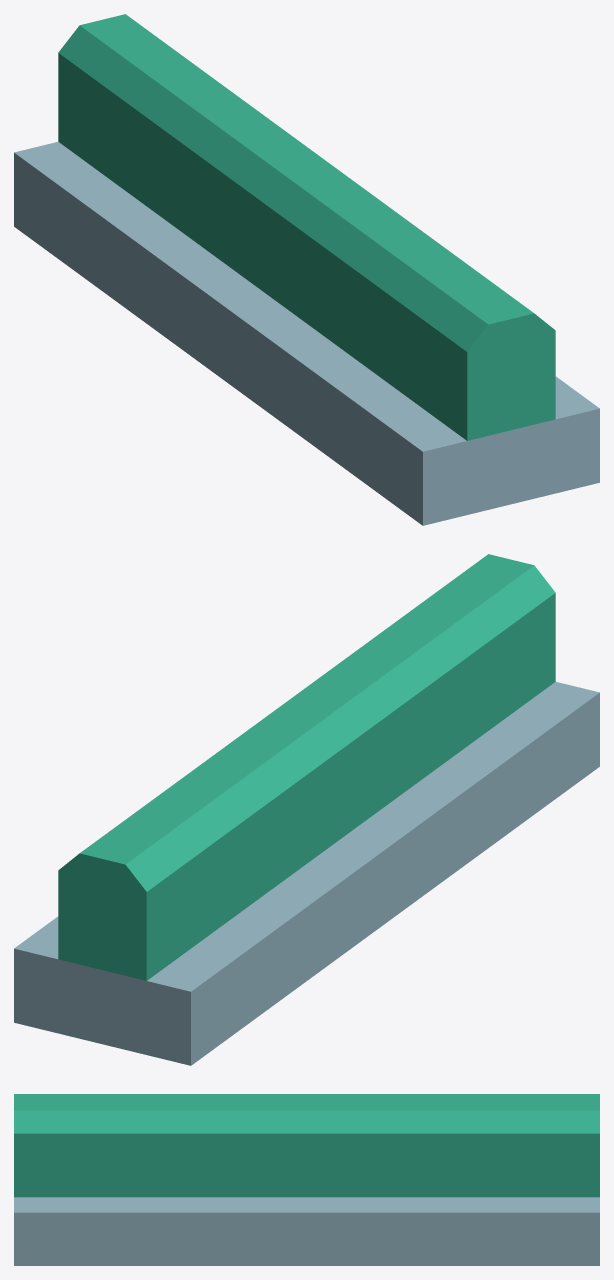
File: d_kenney_haie.glb
The picture shows the model from 3 angles, top to bottom: view 1: azimuth 30°, elevation 25°; view 2: azimuth 150°, elevation 25°; view 3: azimuth 270°, elevation 25°; orthographic projection. The views are drawn at different scales.
Visible parts, largest first — view 1: d_kenney_haie; view 2: d_kenney_haie; view 3: d_kenney_haie.
Boxes of the visible parts, x1=… form: d_kenney_haie: x1=14, y1=14, x2=599, y2=525; d_kenney_haie: x1=14, y1=554, x2=599, y2=1065; d_kenney_haie: x1=14, y1=1094, x2=599, y2=1265.
Bounding box in the file's own units: 0.25 × 0.25 × 1.
Materials: 1 (1 with a texture image).
